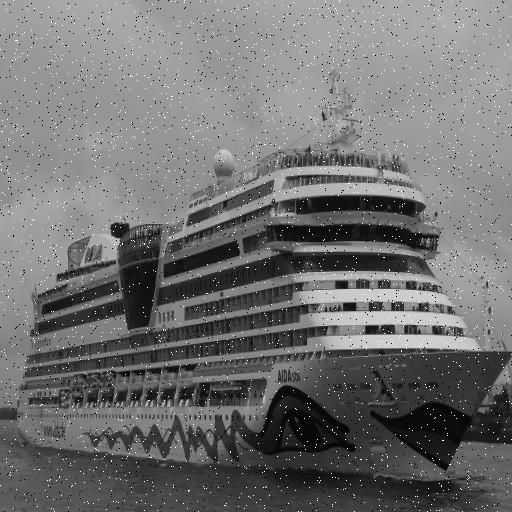cruises: (13, 68, 512, 492)
